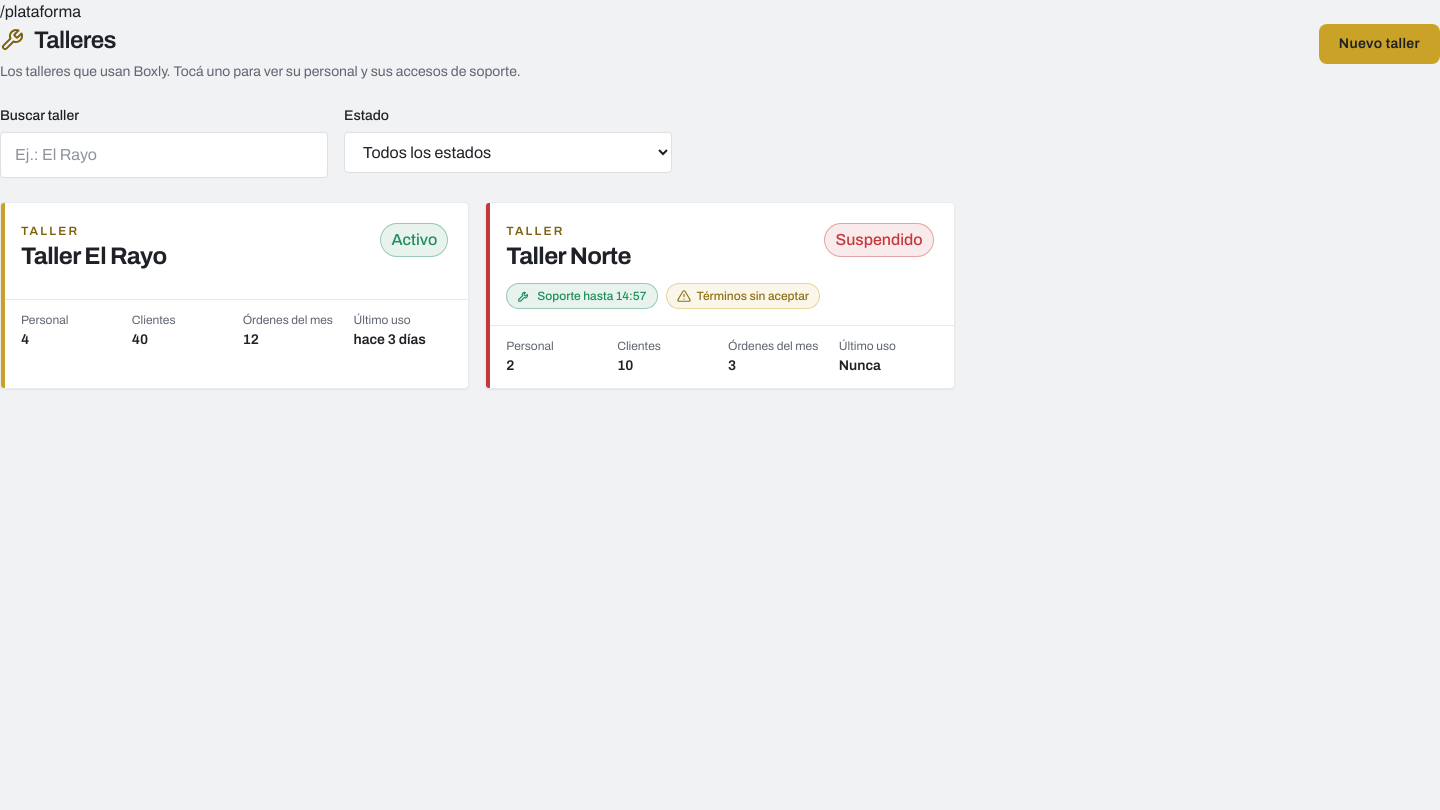
Plataforma › el alta muestra la contraseña temporal una vez y se puede copiar
Expected: the heading "Taller El Rayo" is shown, [21,241,167,271]
Click the button "Nuevo taller" at (1379, 44), box [1319,24,1439,64]
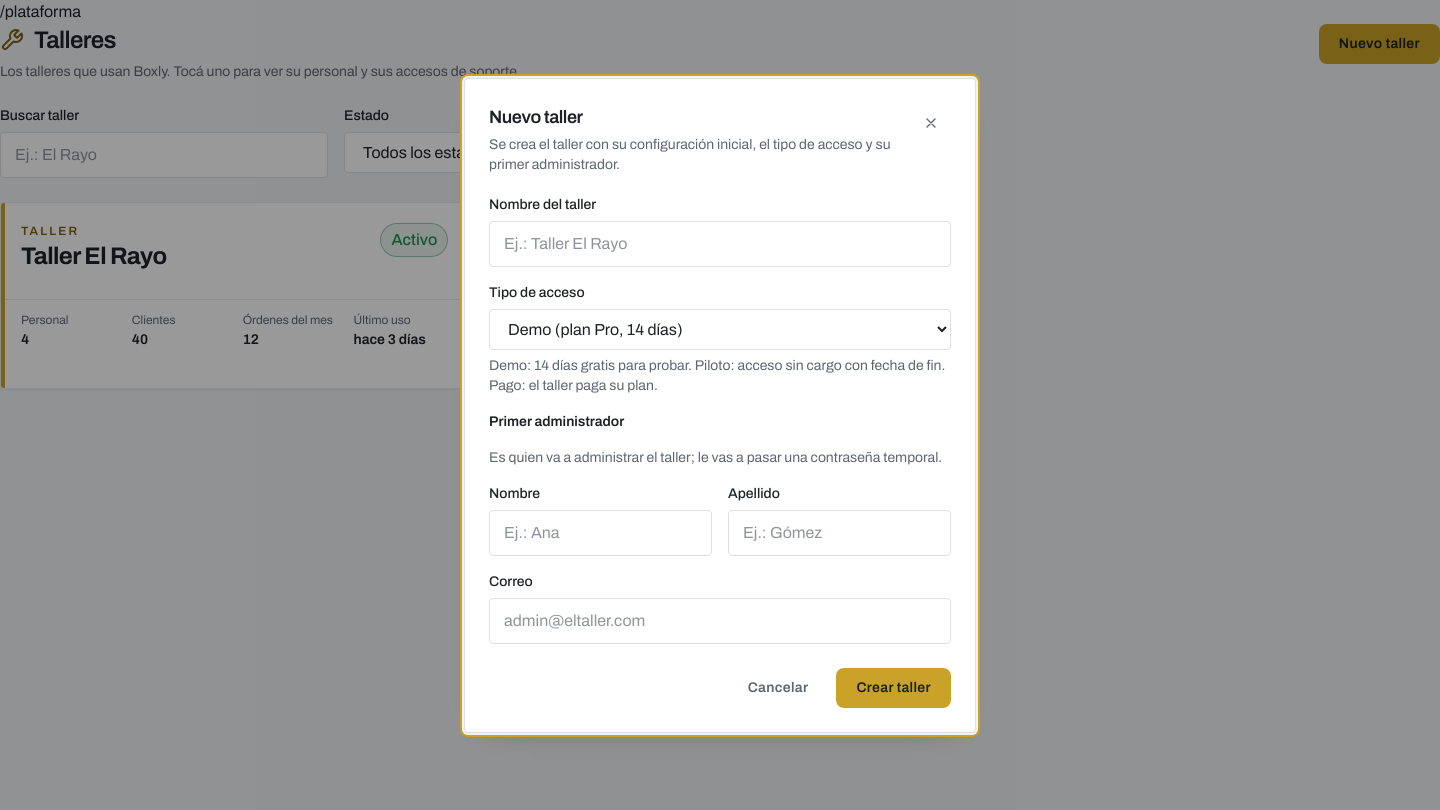
Type "Taller Sur" into the field labelled "Nombre del taller" at (720, 244), box [489,220,951,266]
Type "Ana" into the field labelled "Nombre" at (600, 532), box [489,510,712,556]
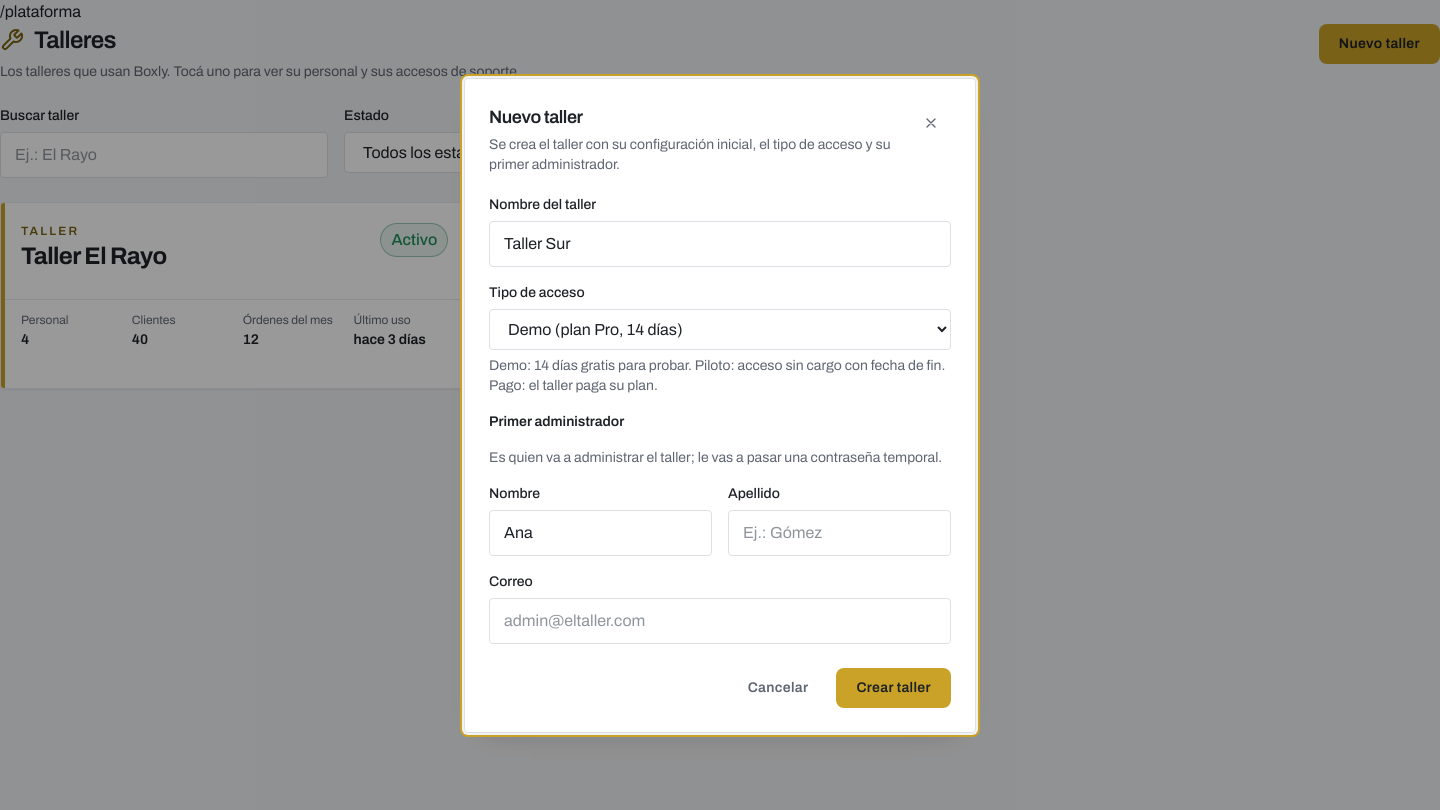
Type "Pérez" into the field labelled "Apellido" at (840, 532), box [728,510,951,556]
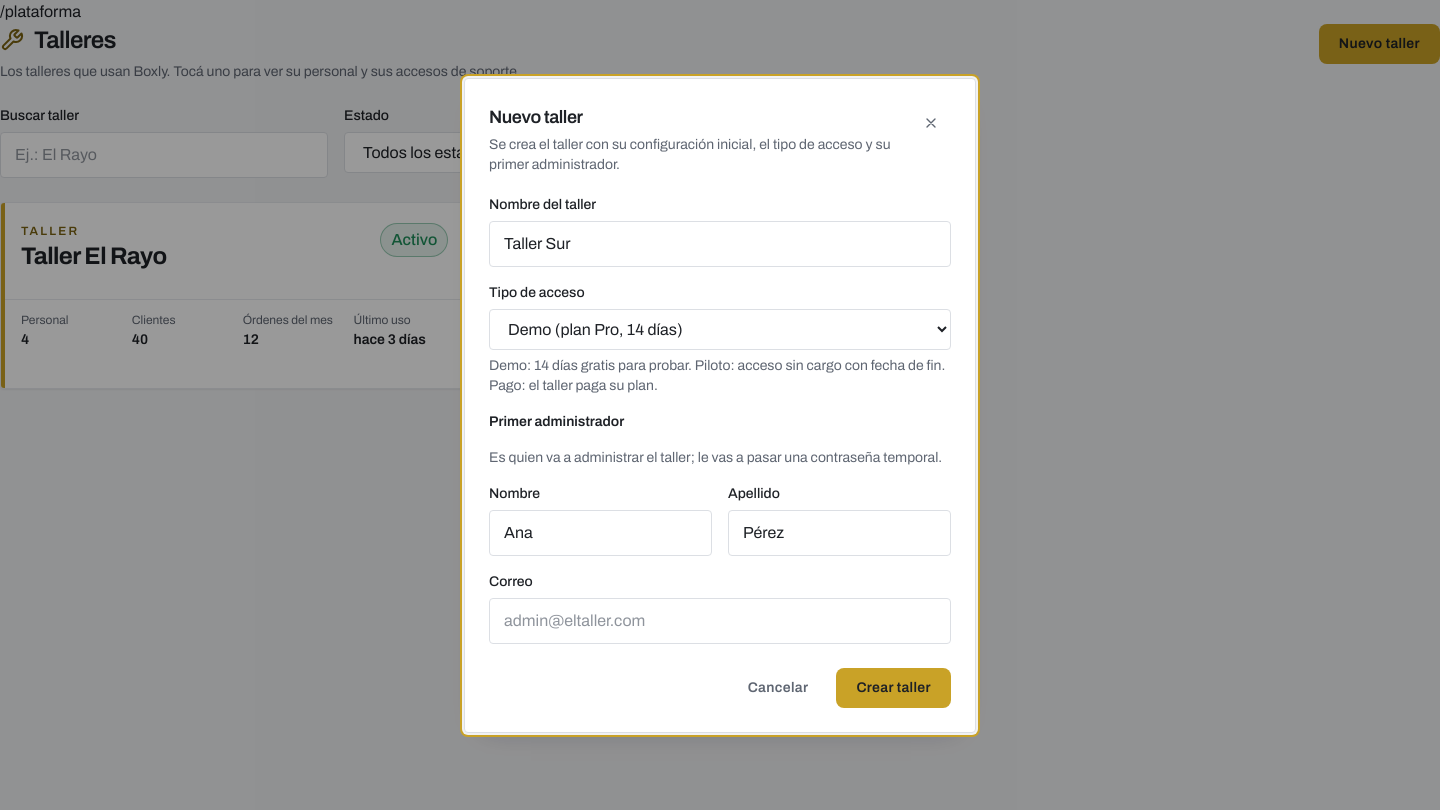
Type "admin@sur.com" into the field labelled "Correo" at (720, 620), box [489,598,951,644]
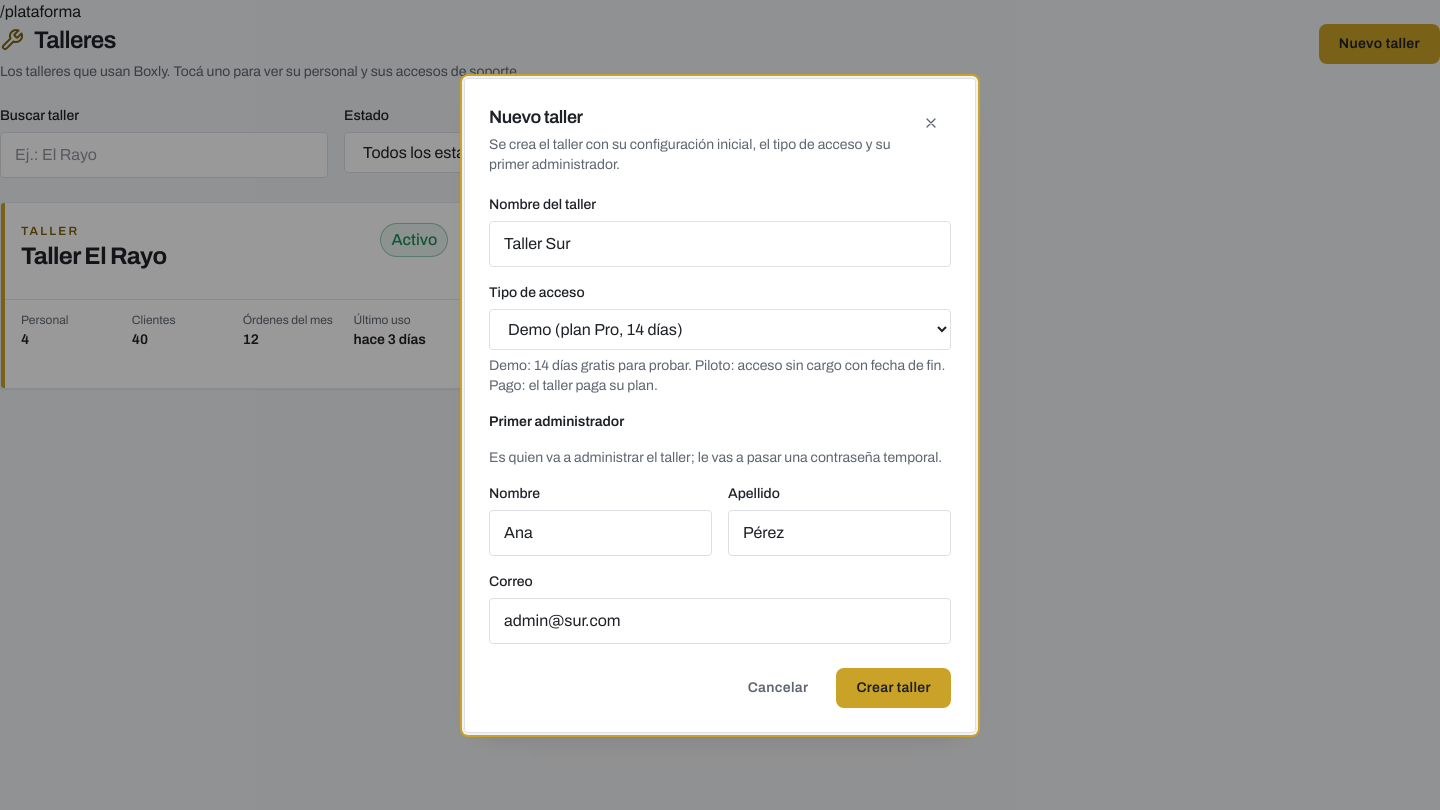
Click the button "Crear taller" at (894, 688), box [836,668,951,708]
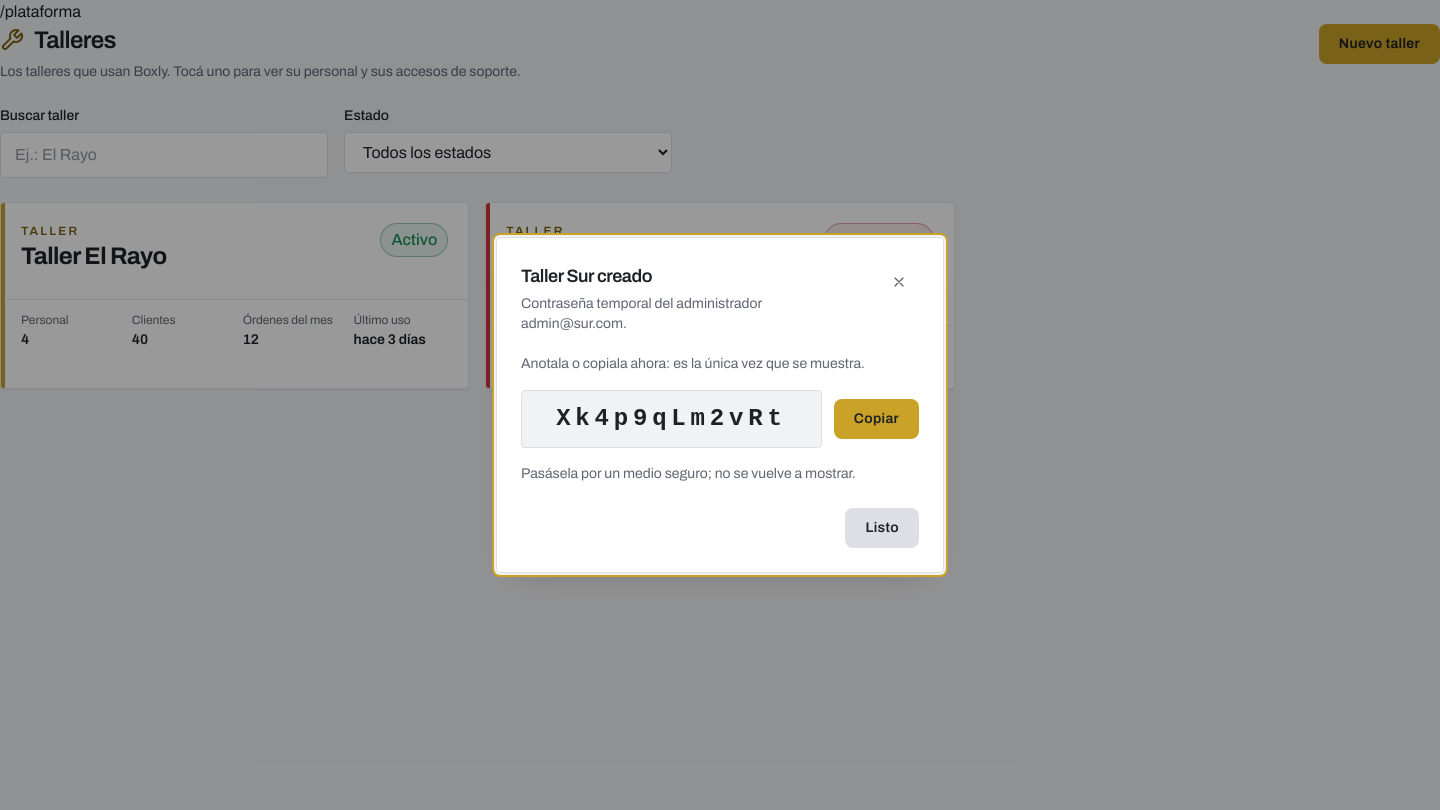
Expected: the text "Xk4p9qLm2vRt" is shown, [521,390,822,448]
Expected: the text "Anotala o copiala ahora: es la única vez que se muestra." is shown, [521,354,919,374]
Click the button "Copiar" at (876, 419), box [834,399,919,439]
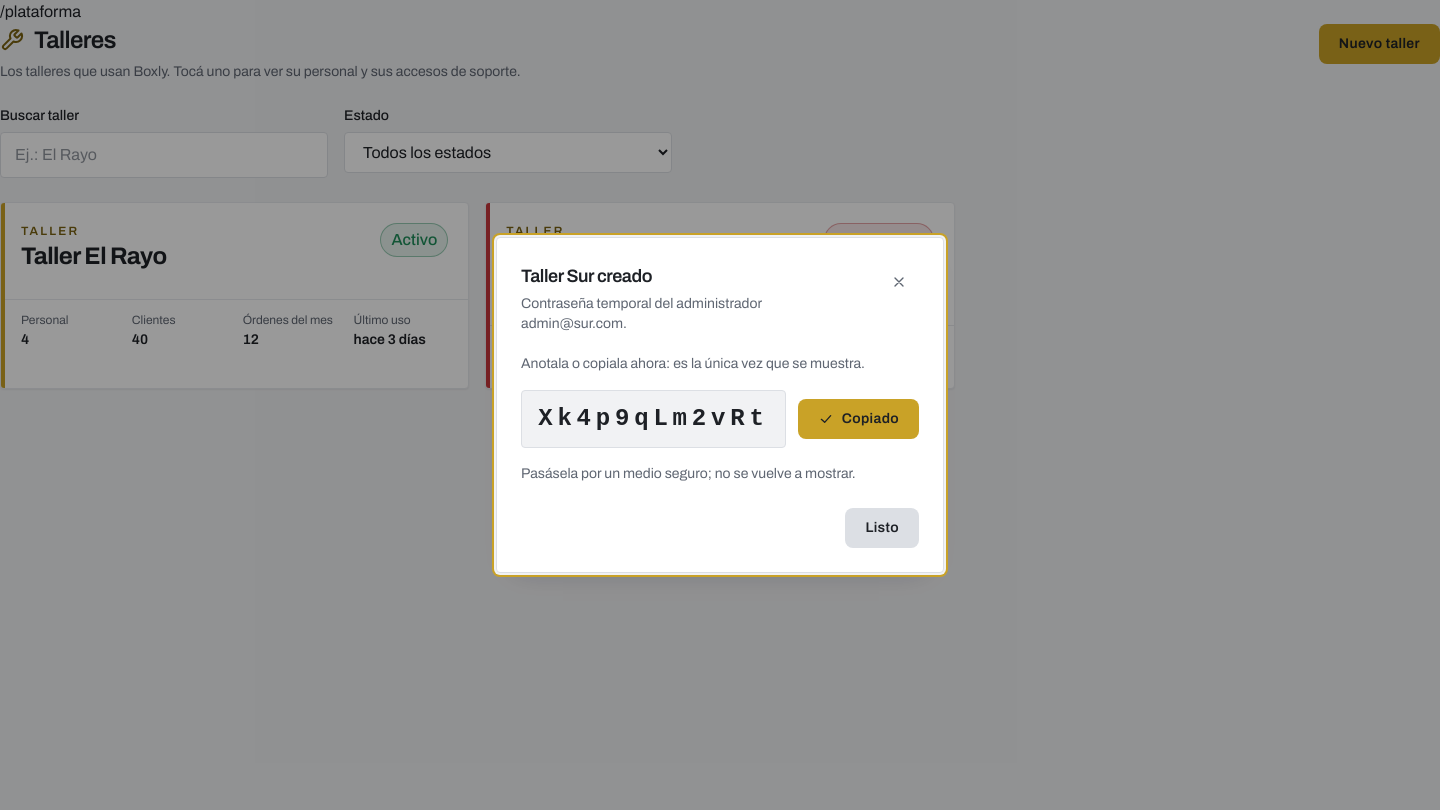
Expected: the button "Copiado" is shown, [798,399,919,439]
